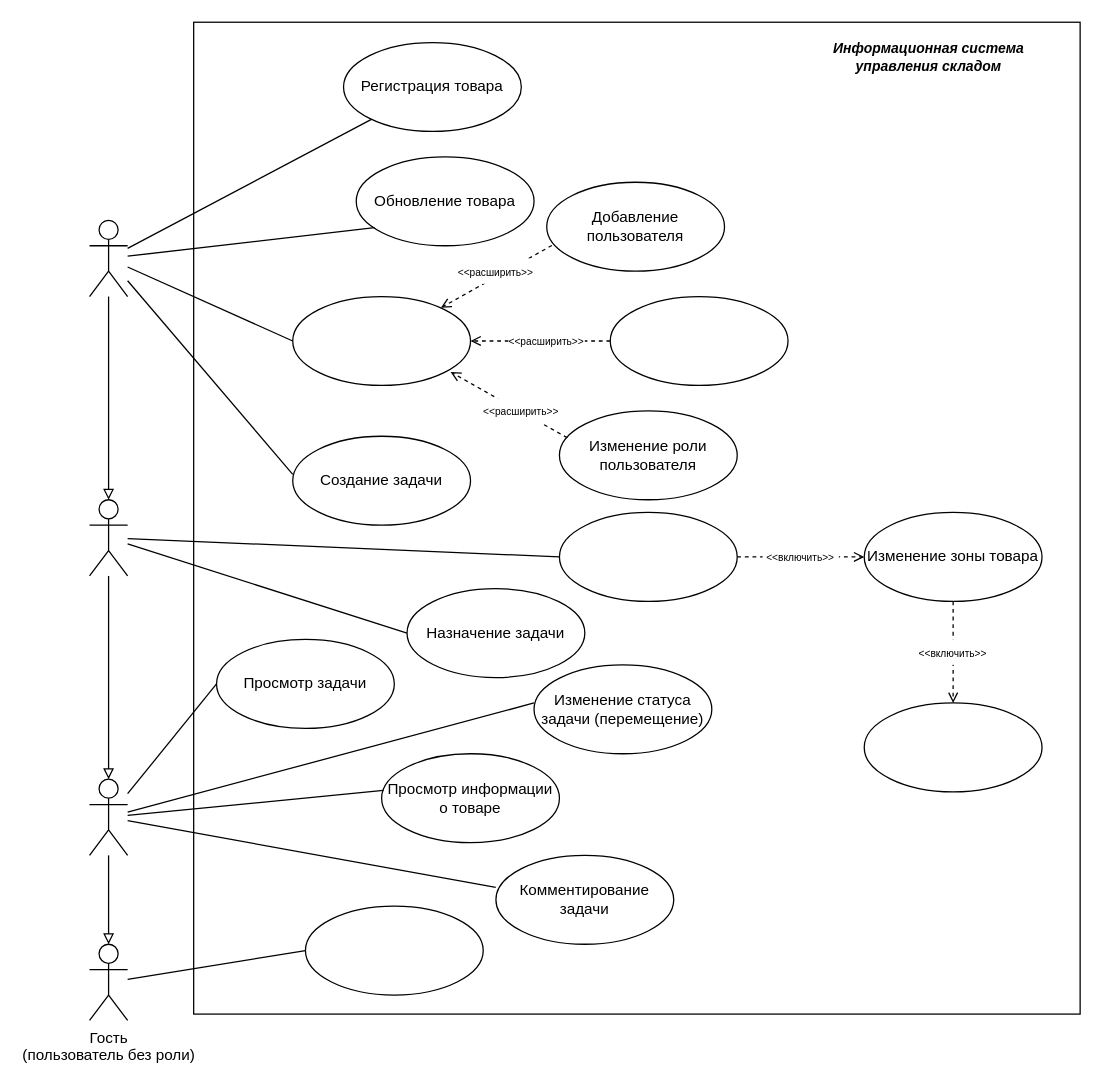
The diagram is 1102 pixels wide and 1088 high, and some of its shapes have lost their labels. Here are the shapes that lost their labels. From the top down, the centre of each, then its label:
the point at 108,258: Администратор
the point at 381,340: Управление списком пользователей
the point at 698,340: Удаление пользователя
the point at 108,537: Аудитор
the point at 647,556: Подтверждение задачи
the point at 952,747: Уведомление администратора об изменении зоны товара
the point at 108,816: Рабочий
the point at 393,950: Аутентификация
